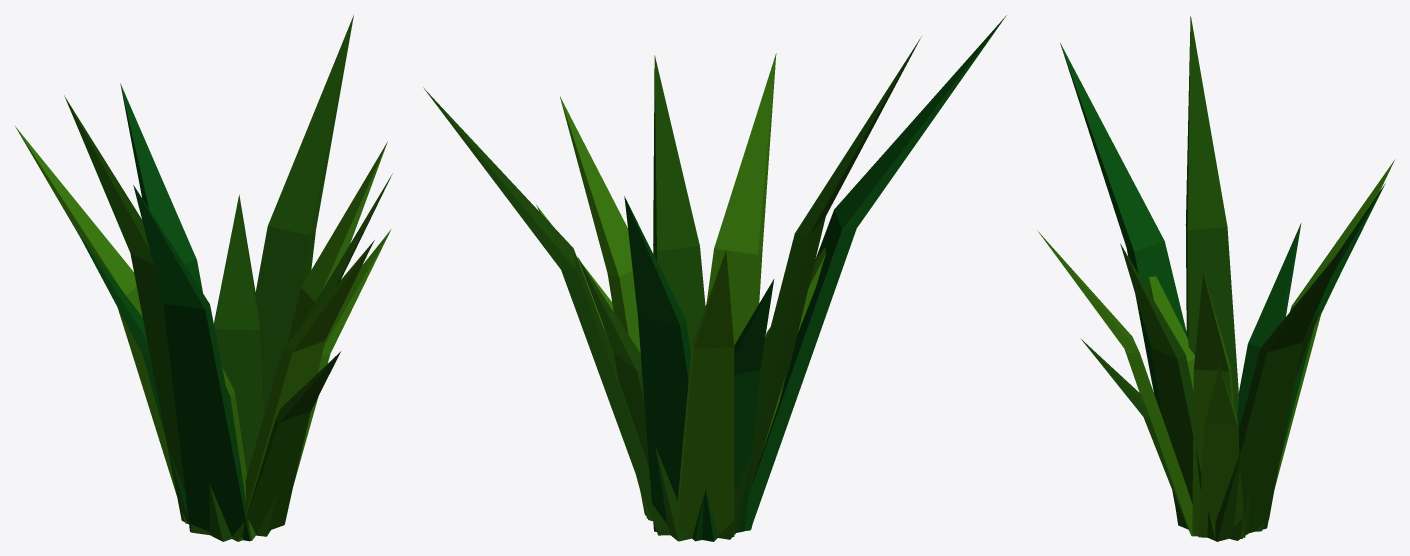
File: grass_tuft.glb
3 views of the same model, side by side, from view 1: azimuth 30°, elevation 25°; view 2: azimuth 150°, elevation 25°; view 3: azimuth 270°, elevation 25° (orthographic). The views are drawn at different scales.
Parts seen in each view (by area): view 1: SM_GrassTuft_large, SM_GrassTuft_small; view 2: SM_GrassTuft_large, SM_GrassTuft_small; view 3: SM_GrassTuft_large, SM_GrassTuft_small.
Part boxes in pixels (<box>): SM_GrassTuft_large: <box>15,15,392,541</box>; SM_GrassTuft_small: <box>76,195,390,540</box>; SM_GrassTuft_large: <box>423,15,1006,541</box>; SM_GrassTuft_small: <box>536,205,825,541</box>; SM_GrassTuft_large: <box>1038,16,1394,541</box>; SM_GrassTuft_small: <box>1080,223,1319,540</box>.
Bounding box in the file's own units: 0.3852 × 0.4652 × 0.3547.
2 materials, 2 textured.
